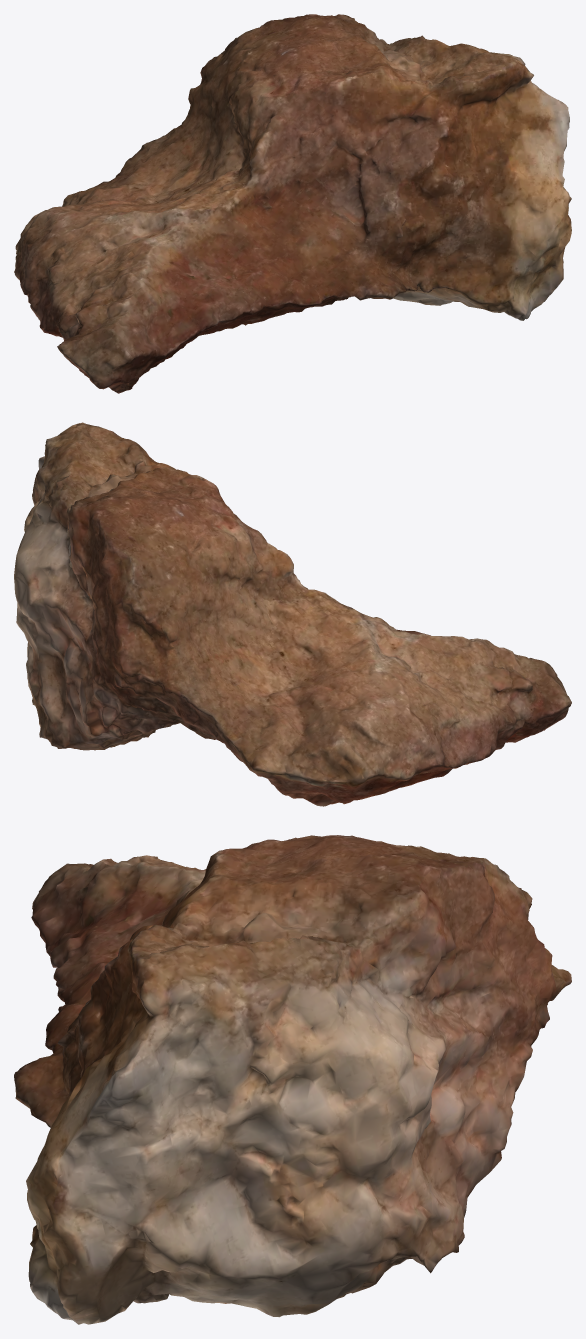
Rendered from stone_01.glb.
3 renders of one model, top to bottom at view 1: azimuth 30°, elevation 25°; view 2: azimuth 150°, elevation 25°; view 3: azimuth 270°, elevation 25°, orthographic. The views are drawn at different scales.
Parts seen in each view (by area): view 1: stone_01; view 2: stone_01; view 3: stone_01.
Boxes of the visible parts, x1=… form: stone_01: x1=14, y1=14, x2=571, y2=393; stone_01: x1=14, y1=422, x2=571, y2=806; stone_01: x1=14, y1=835, x2=571, y2=1324.
Size of the model in its own units: 0.1469 by 0.0718 by 0.0891.
1 material, 1 textured.
